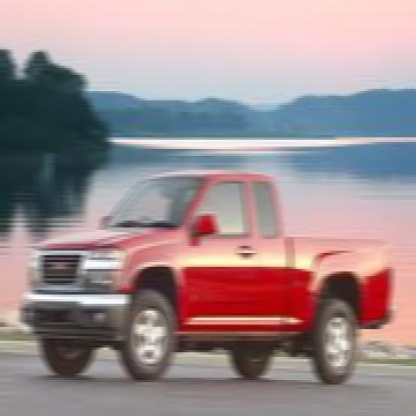Vehicle: (19, 166, 394, 377)
